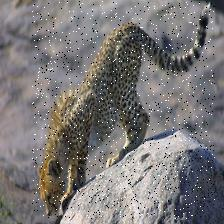Cheetha: (31, 2, 214, 220)
